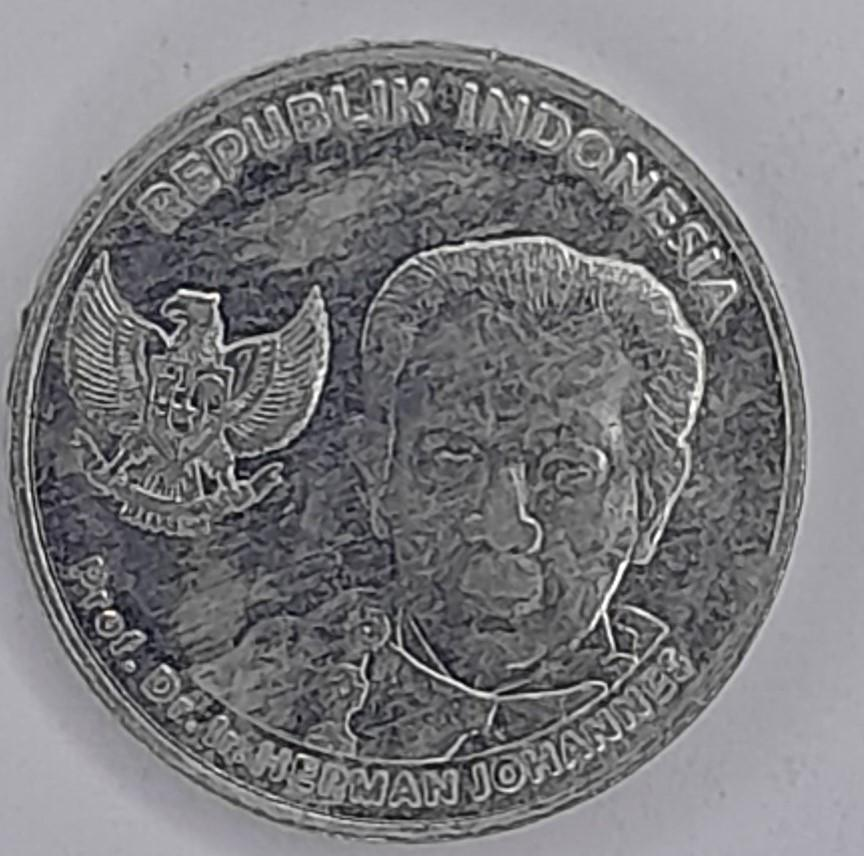coin_100_e2016: (1, 32, 815, 846)
